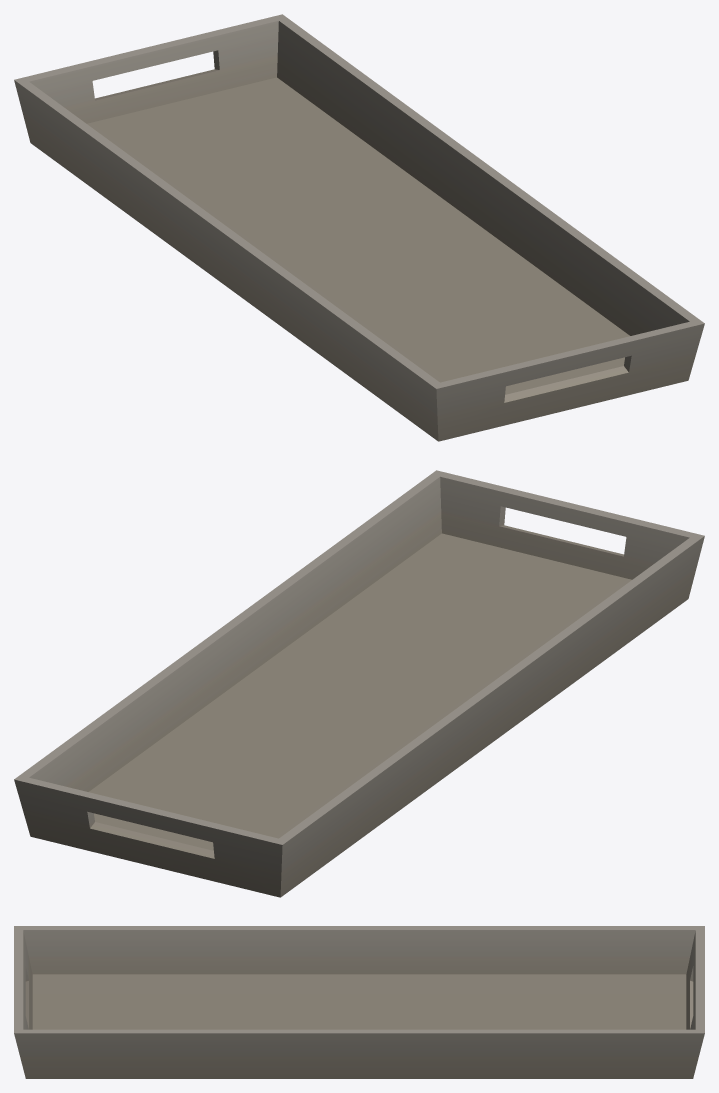
The model's file is FoodProp_4_2_C.fbx.
The picture shows the model from 3 angles, top to bottom: view 1: azimuth 30°, elevation 25°; view 2: azimuth 150°, elevation 25°; view 3: azimuth 270°, elevation 25°; orthographic projection. The views are drawn at different scales.
Parts seen in each view (by area): view 1: FoodProp_4_2_C; view 2: FoodProp_4_2_C; view 3: FoodProp_4_2_C.
Boxes of the visible parts, x1,y1,x2,y2 form: FoodProp_4_2_C: (14,14,704,441); FoodProp_4_2_C: (14,470,704,897); FoodProp_4_2_C: (14,926,704,1078).
Bounding box in the file's own units: 22.66 × 4.86 × 61.74.
